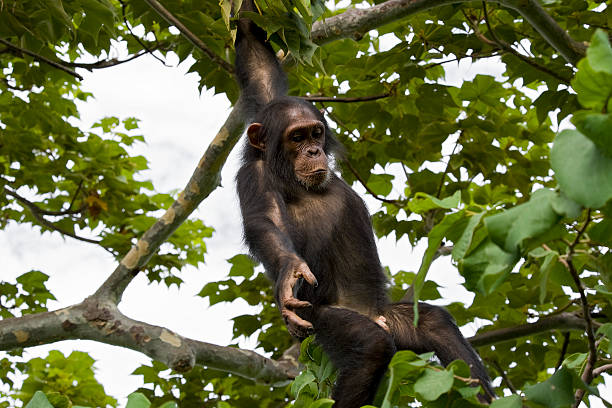chimpanzee: (235, 92, 356, 209)
